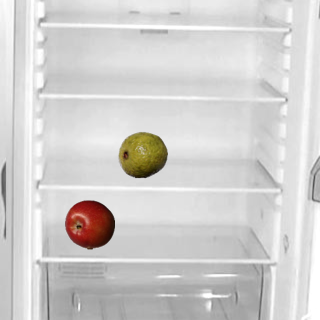Apple Braeburn: (64, 199, 114, 249)
Guava: (117, 129, 167, 179)
